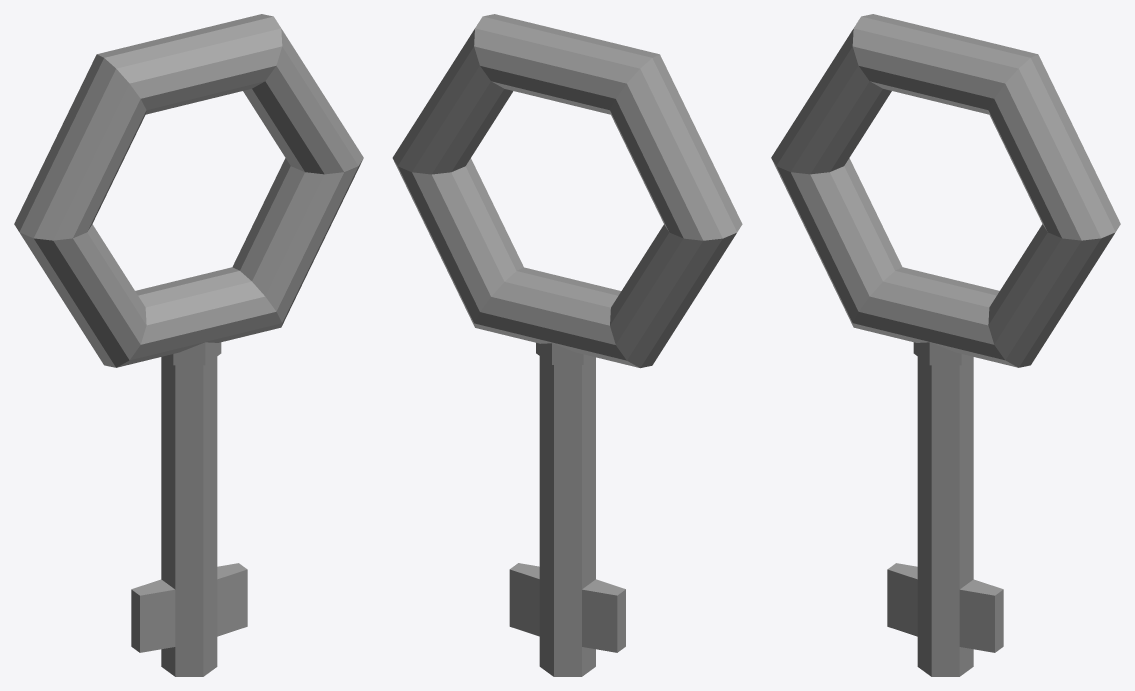
The model's file is key.obj.
3 views of the same model, side by side, from view 1: azimuth 30°, elevation 25°; view 2: azimuth 150°, elevation 25°; view 3: azimuth 330°, elevation 25° (orthographic).
Parts seen in each view (by area): view 1: key; view 2: key; view 3: key.
Part boxes in pixels (left/top/right/bottom): key: left=14, top=14, right=363, bottom=676; key: left=392, top=14, right=742, bottom=676; key: left=771, top=14, right=1120, bottom=676.
Bounding box in the file's own units: 0.0671 × 0.119 × 0.0134.
